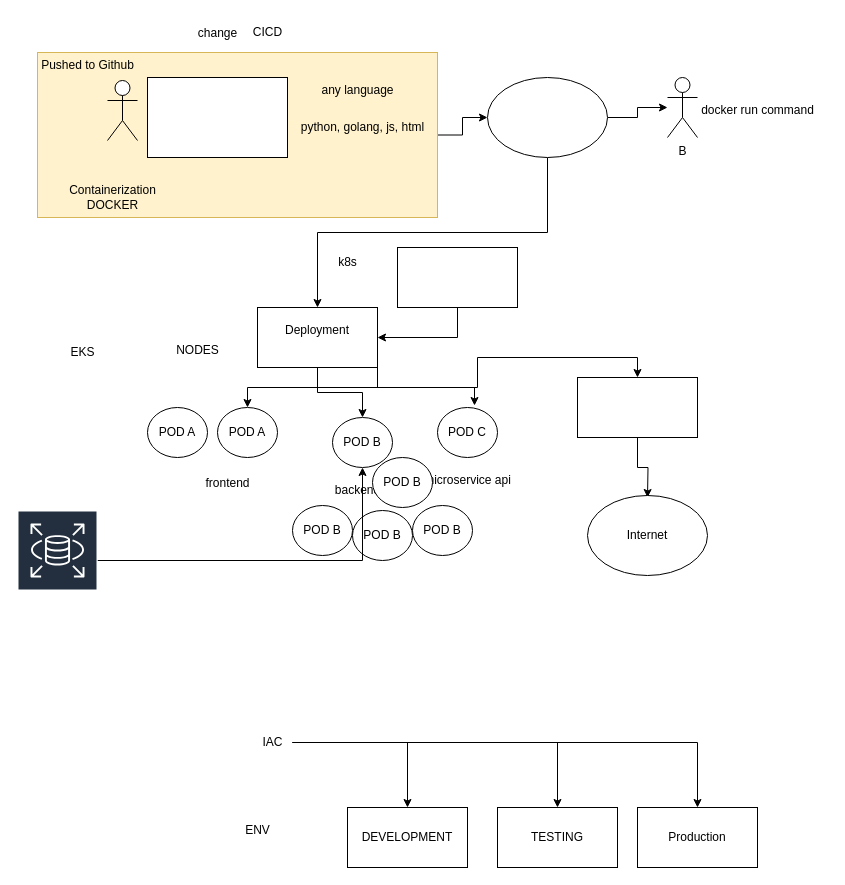
Some shapes in this 845 by 885 pixel diagram are drawn without their labels. The box of each missing label's shape, as (x1, y1, x2, y2) in pixels:
Actor: (106, 80, 138, 140)
Amazon RDS: (16, 510, 98, 610)
Code (on my machine): (146, 76, 288, 158)
Docker Image: (486, 76, 608, 158)
K8S Service: (576, 376, 698, 438)
YAML File: (396, 246, 518, 308)
